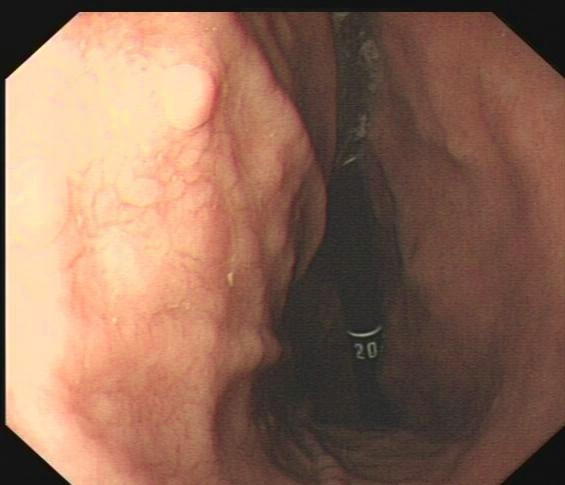Polyp: (145, 58, 220, 137)
